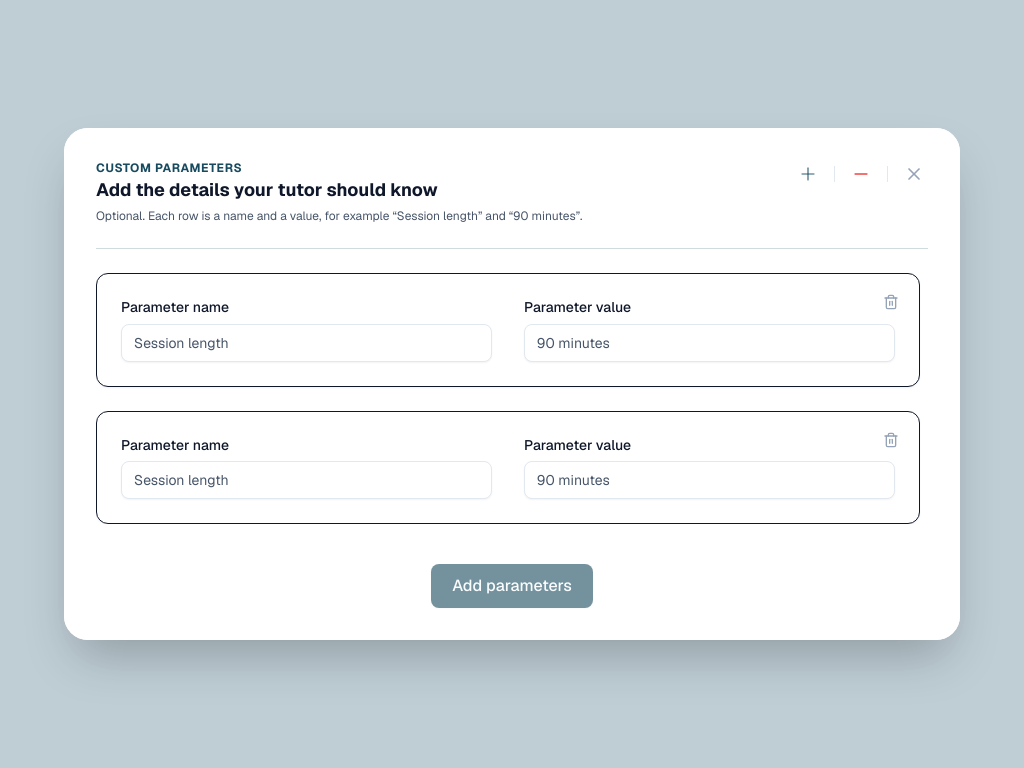
Test: CustomParametersModal › removes the last row from the header control
Click the button named "Remove the last parameter row" at (861, 174), box [847,160,875,188]
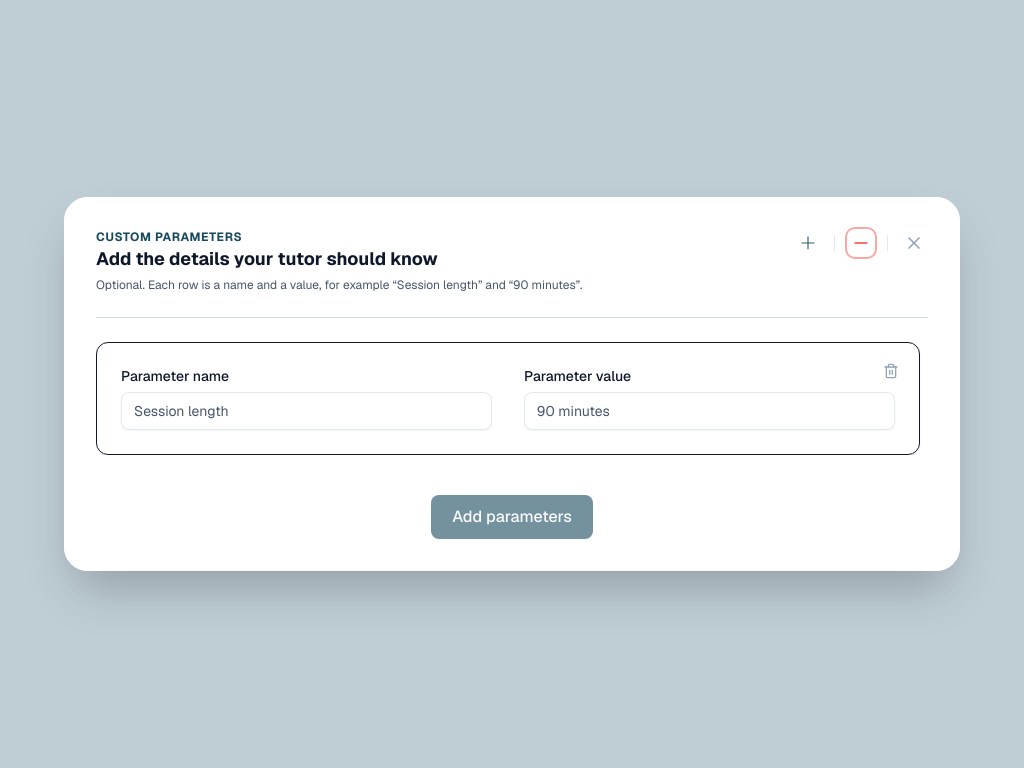
Now the number of fields labelled "Parameter name" is 1, box [121,392,492,430]
